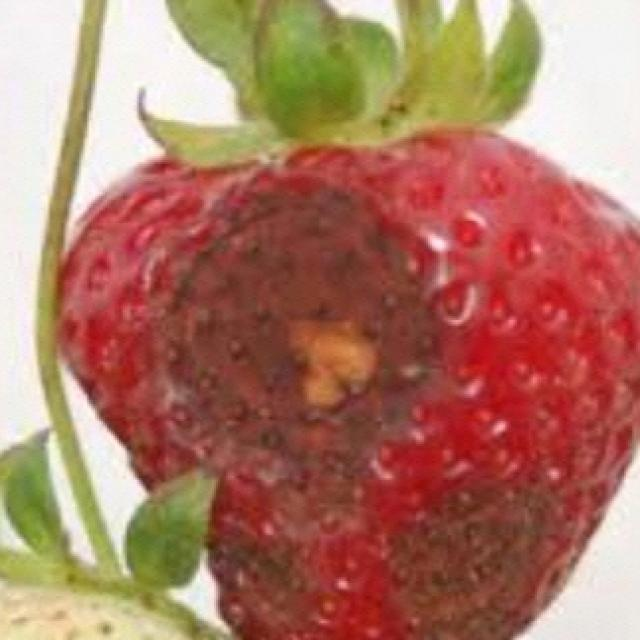Anthracnose Fruit Rot: (106, 155, 640, 640)
